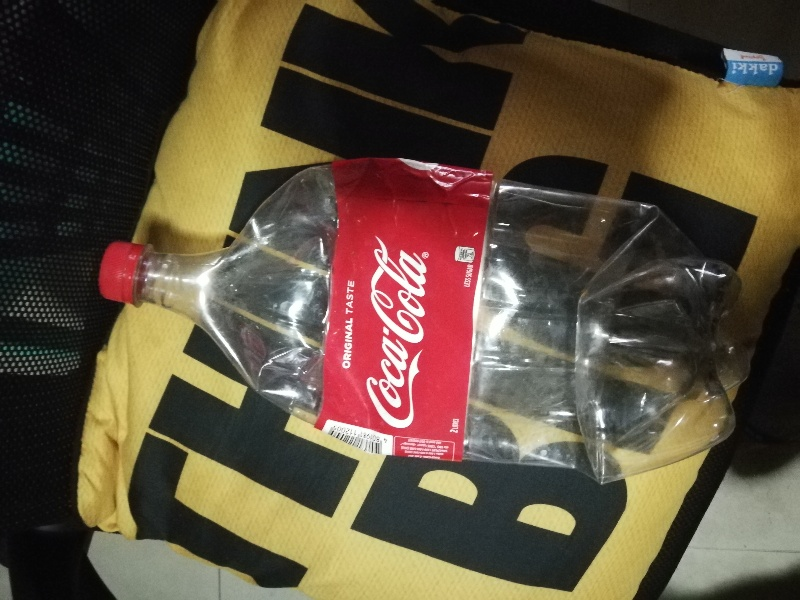PET #1: (82, 156, 743, 476)
